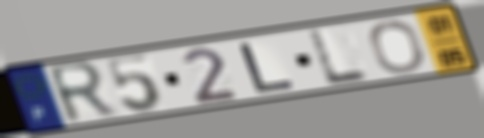2: (178, 45, 242, 107)
5: (103, 51, 165, 115)
L: (306, 27, 374, 88), (237, 41, 299, 96)
O: (366, 19, 428, 75)
R: (43, 59, 122, 128)
